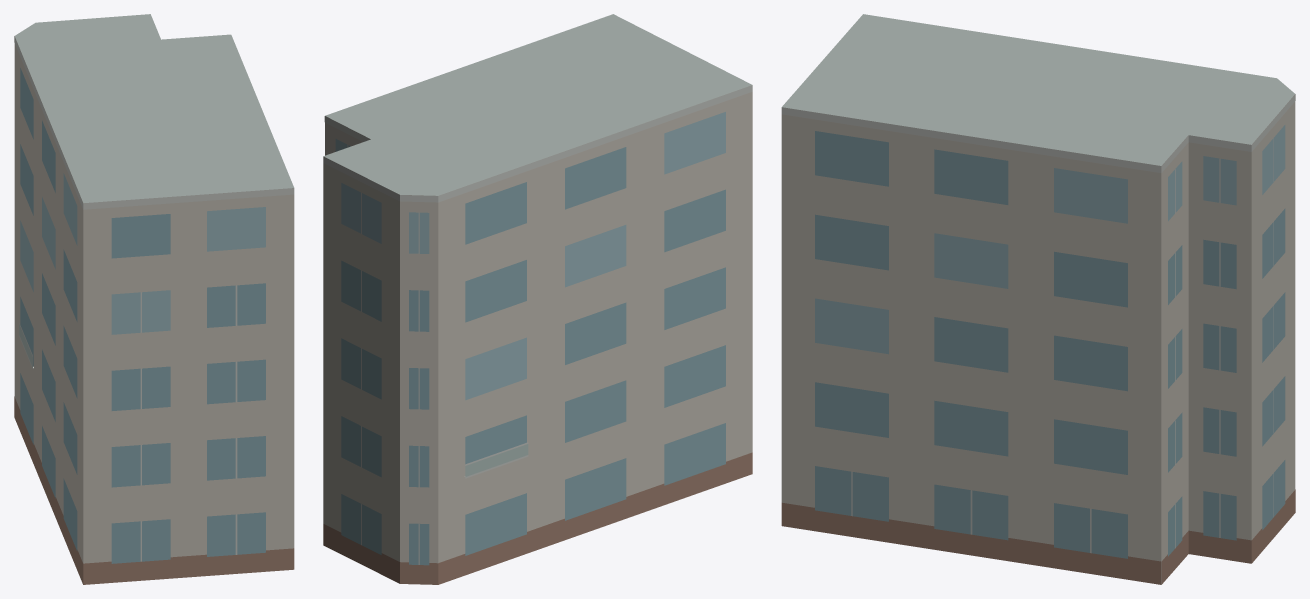
Rendered from survey-upis-32599754.glb.
3 renders of one model, left to right at view 1: azimuth 30°, elevation 25°; view 2: azimuth 150°, elevation 25°; view 3: azimuth 270°, elevation 25°, orthographic. The views are drawn at different scales.
Parts seen in each view (by area): view 1: survey-upis-32599754.tmp; view 2: survey-upis-32599754.tmp; view 3: survey-upis-32599754.tmp.
Boxes of the visible parts, <box> form: survey-upis-32599754.tmp: <box>14,14,294,584</box>; survey-upis-32599754.tmp: <box>323,14,752,584</box>; survey-upis-32599754.tmp: <box>781,14,1295,584</box>.
Bounding box in the file's own units: 11.06 × 14.2 × 15.8.
